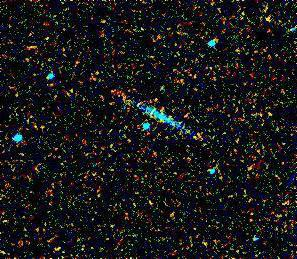star: (143, 86, 173, 116)
